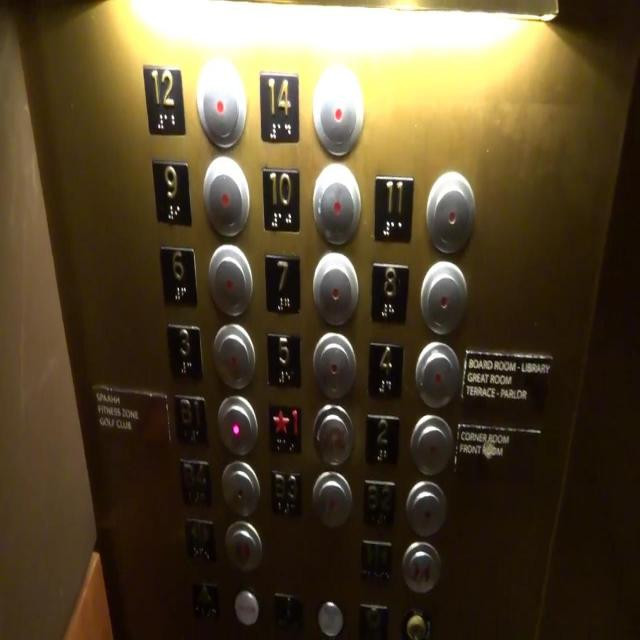1: (268, 400, 302, 456)
10: (261, 166, 301, 234)
11: (374, 174, 414, 243)
12: (142, 63, 186, 135)
14: (259, 70, 300, 143)
2: (365, 412, 399, 466)
3: (166, 321, 204, 380)
4: (367, 340, 403, 400)
5: (266, 332, 302, 389)
6: (159, 245, 197, 308)
7: (264, 252, 301, 314)
8: (371, 260, 408, 324)
9: (150, 157, 192, 226)
B1: (175, 392, 209, 445)
B2: (363, 478, 395, 526)
B3: (270, 467, 302, 517)
B4: (180, 456, 212, 506)
alarm: (191, 580, 219, 622)
blur: (312, 401, 354, 467), (273, 592, 303, 639)
close: (400, 540, 442, 594), (360, 538, 392, 583)
empty: (311, 63, 365, 157), (195, 61, 247, 153), (311, 158, 361, 247), (426, 169, 476, 256), (201, 153, 250, 238), (206, 240, 254, 318), (419, 259, 467, 335), (311, 250, 359, 325), (310, 329, 356, 400), (414, 339, 460, 409), (212, 321, 256, 390), (409, 414, 454, 476), (216, 393, 258, 456), (311, 471, 353, 529), (405, 478, 447, 536), (220, 460, 260, 518)
open: (225, 519, 262, 571), (184, 517, 216, 563)
text_blur: (232, 583, 260, 627), (316, 598, 344, 638)
